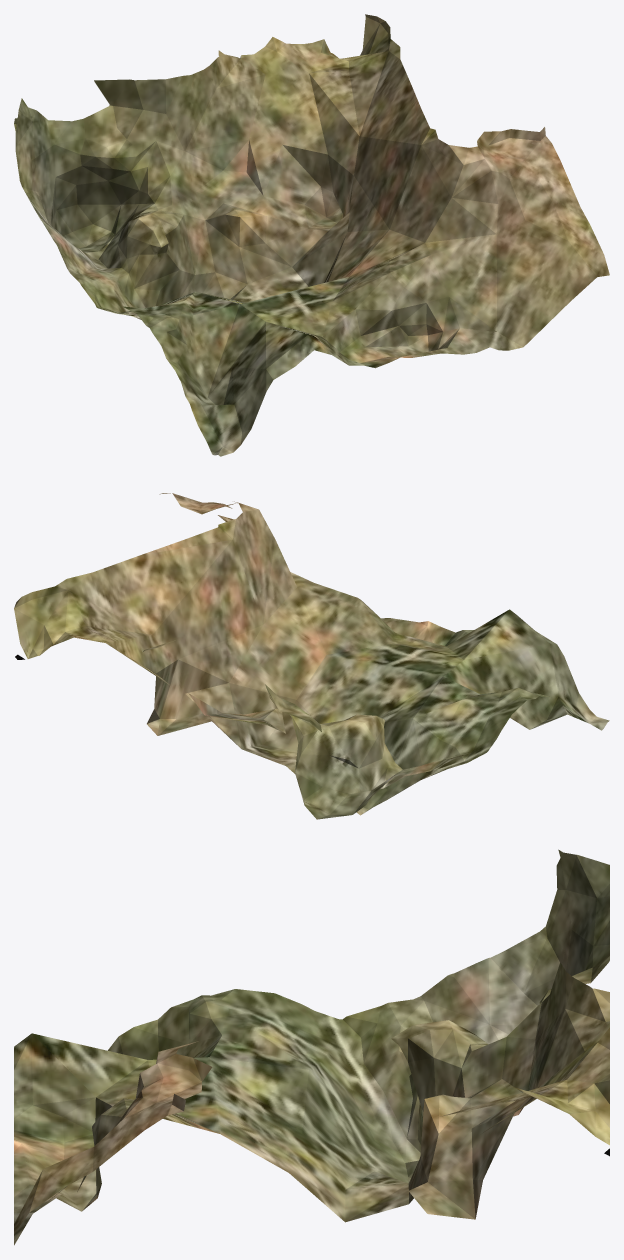
3 views of the same model, one above another, from view 1: azimuth 30°, elevation 25°; view 2: azimuth 150°, elevation 25°; view 3: azimuth 270°, elevation 25° (orthographic). The views are drawn at different scales.
Size of the model in its own units: 2.95 by 1.39 by 2.95.
3 materials, 3 textured.
